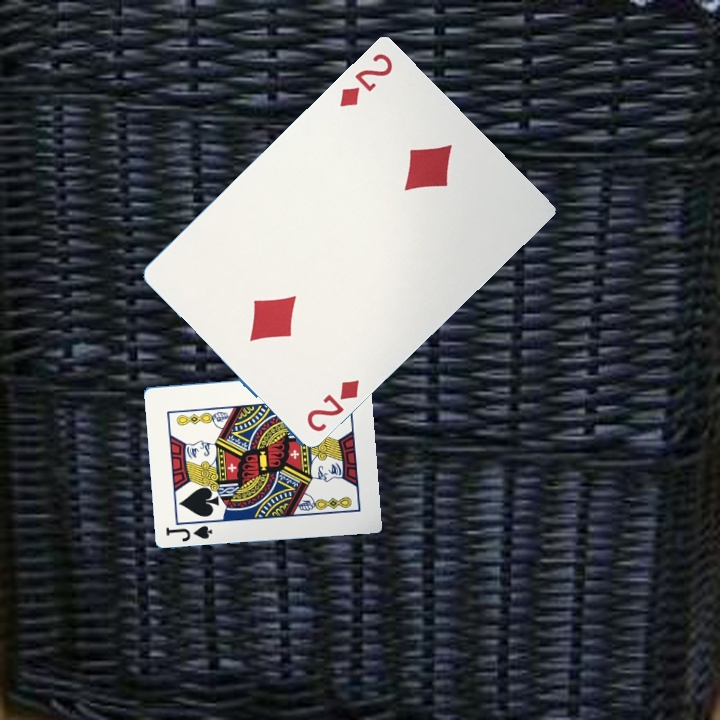5H.png: (162, 521, 215, 544)
KH.png: (335, 49, 396, 110), (302, 375, 362, 435)
